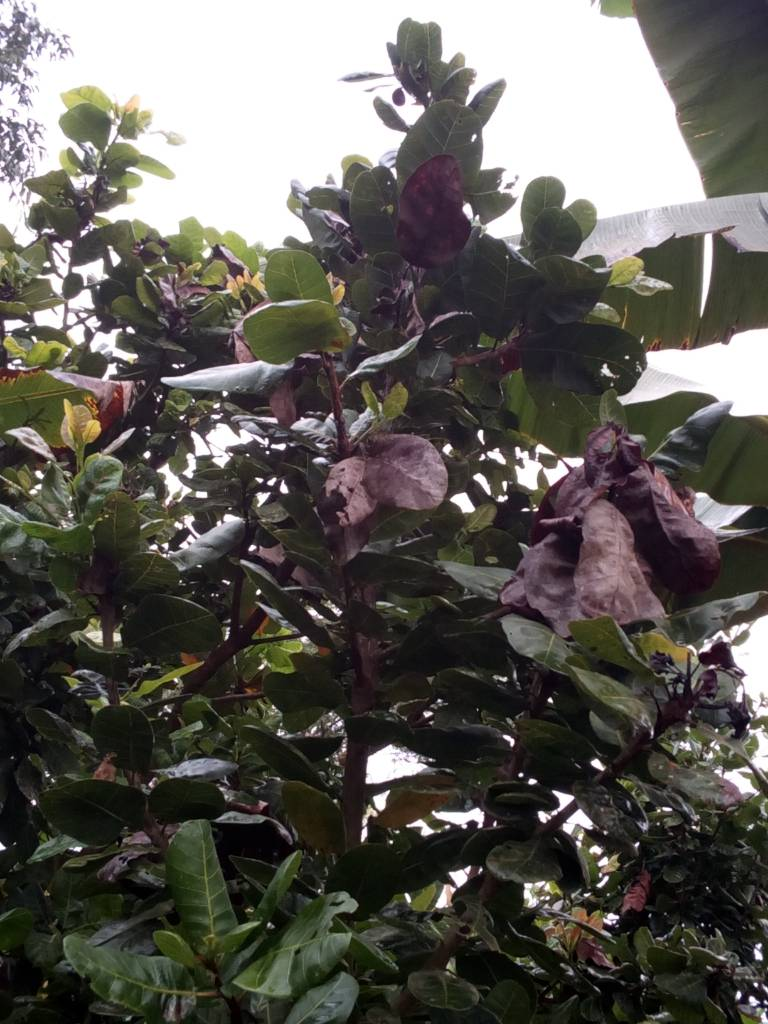Dessèchement des bourgeons: (125, 236, 245, 347), (349, 253, 425, 328)
